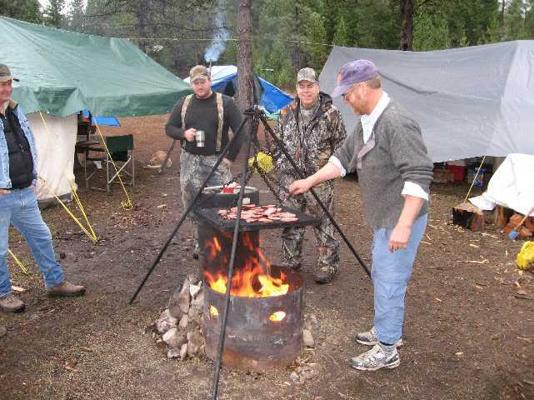person: (286, 59, 438, 371)
